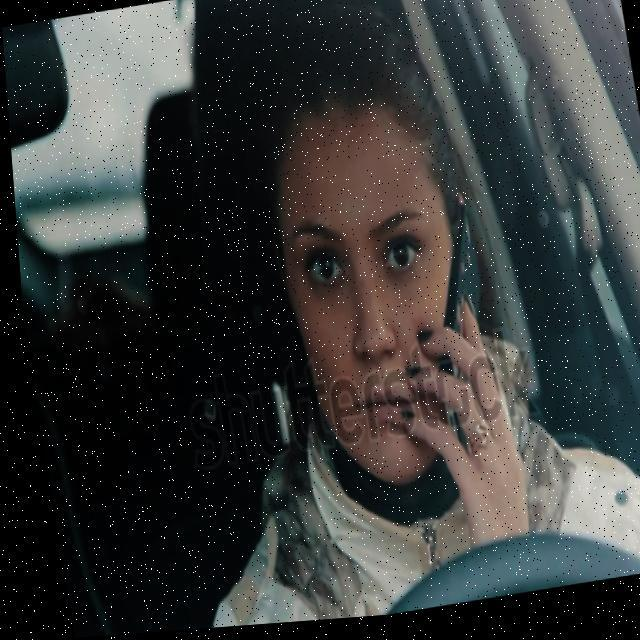PhoneCall: (406, 204, 502, 466)
